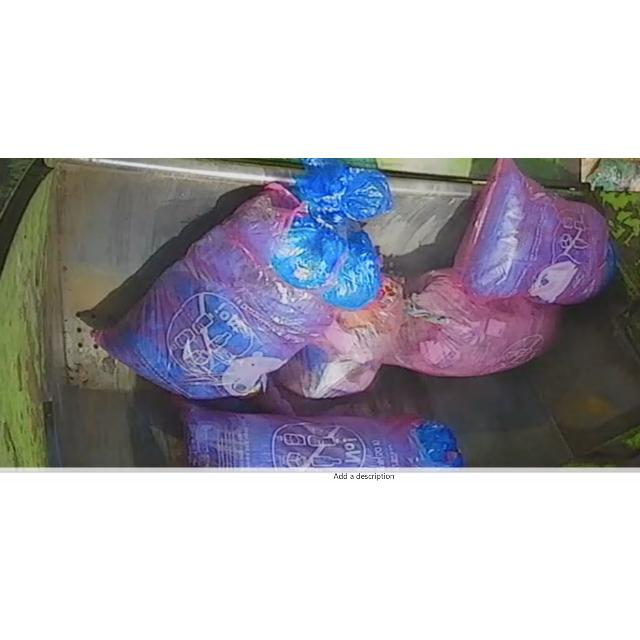other_trashbag: (95, 158, 392, 398), (454, 157, 609, 303), (386, 268, 559, 376), (185, 407, 464, 468), (275, 277, 402, 398)
